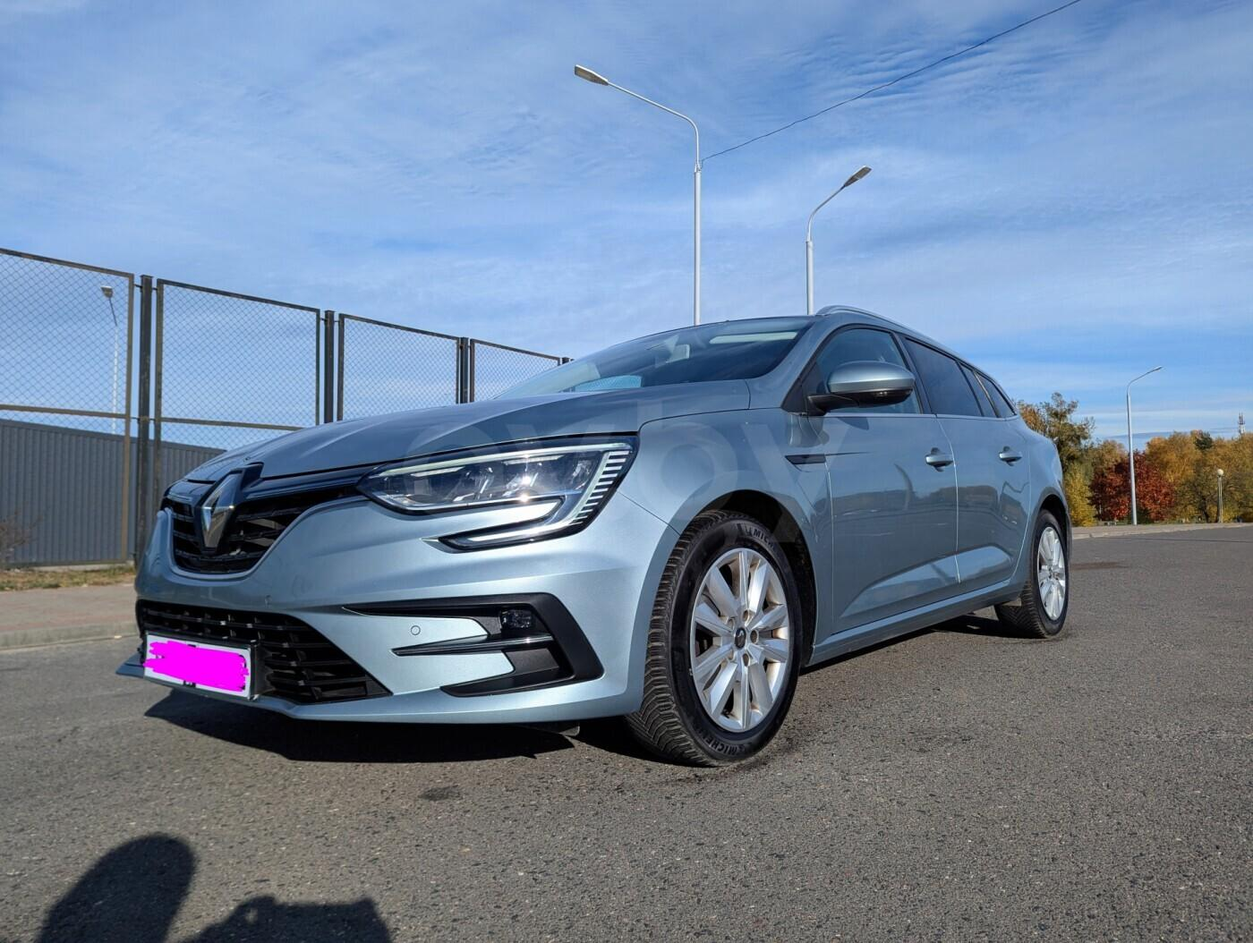Megane_2020: (139, 303, 1080, 776)
